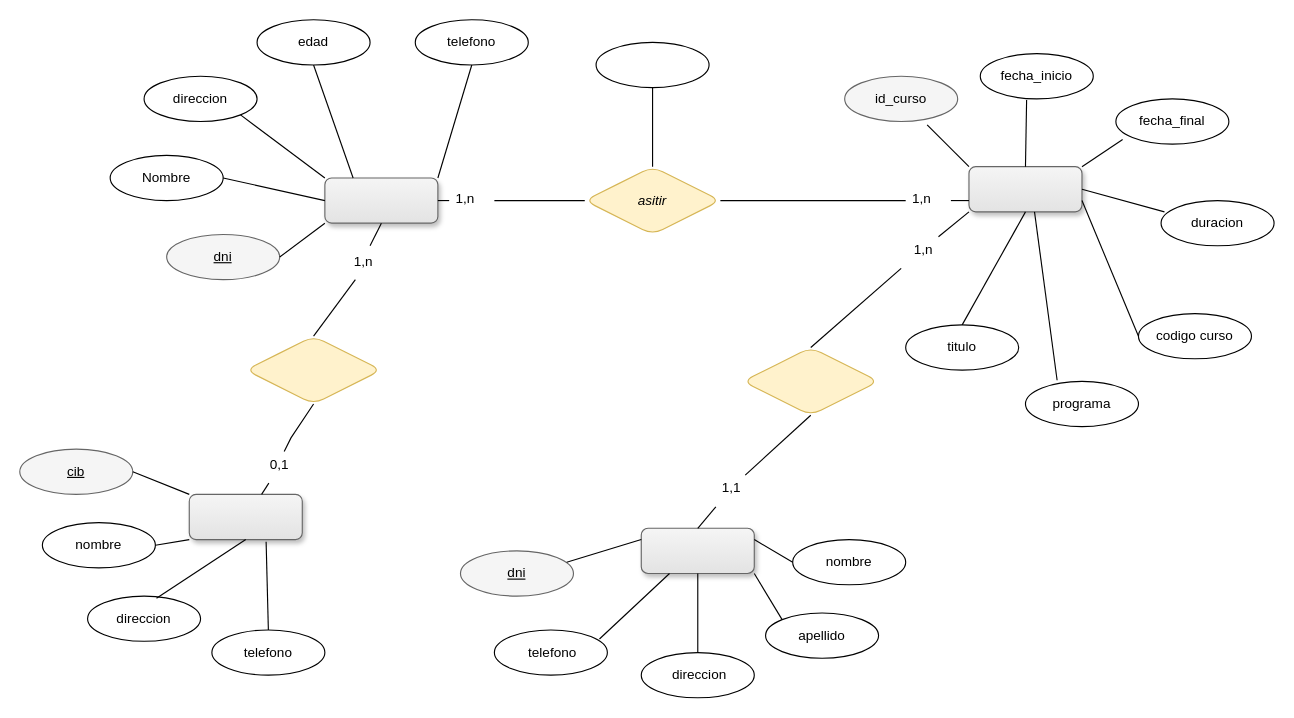
The diagram is 1294 pixels wide and 718 high, and some of its shapes have lost their labels. The centre of each missing label's shape, as x and y in pixels:
"alumnos" goes at (x=382, y=201).
"cursos" goes at (x=1026, y=190).
"empresa" goes at (x=246, y=518).
"impartir" goes at (x=810, y=380).
"nota" goes at (x=652, y=64).
"profesores" goes at (x=698, y=552).
"trabaja" goes at (x=313, y=369).
